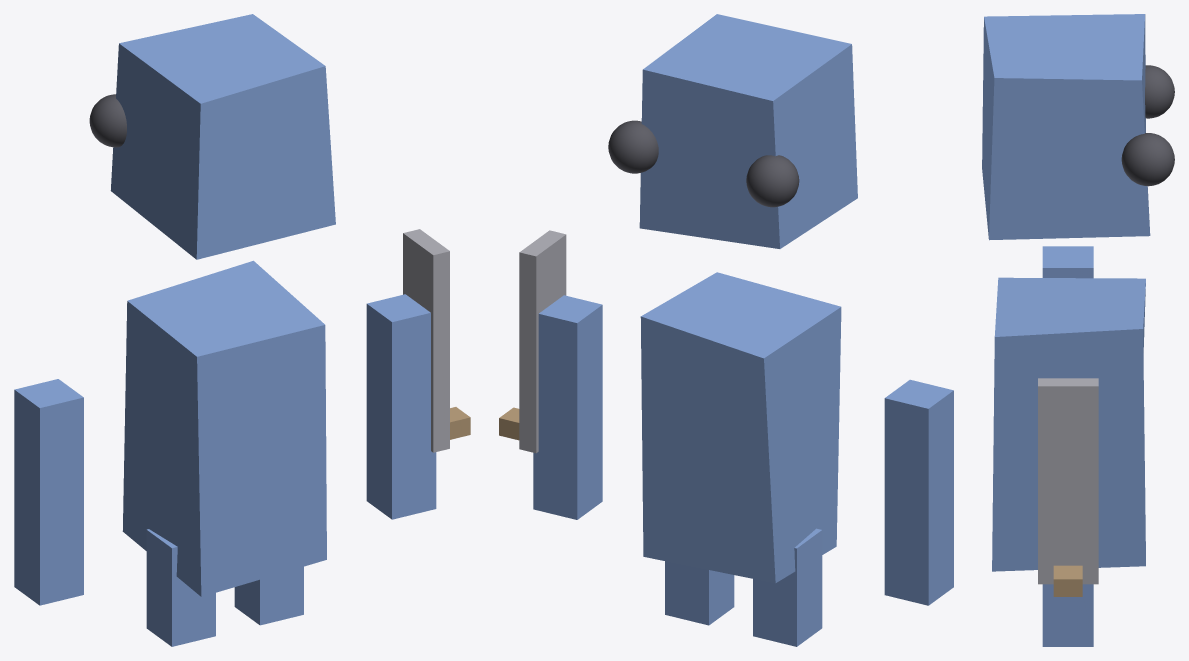
Rendered from clay_blocky_hero_sword.glb.
3 views of the same model, side by side, from view 1: azimuth 30°, elevation 25°; view 2: azimuth 150°, elevation 25°; view 3: azimuth 270°, elevation 25° (orthographic).
Parts seen in each view (by area): view 1: guard; view 2: guard; view 3: guard.
Boxes of the visible parts, x1,y1,x2,y2 form: guard: (14,14,470,646); guard: (499,14,953,646); guard: (982,14,1174,646).
Size of the model in its own units: 2.08 by 2.58 by 0.7955.
